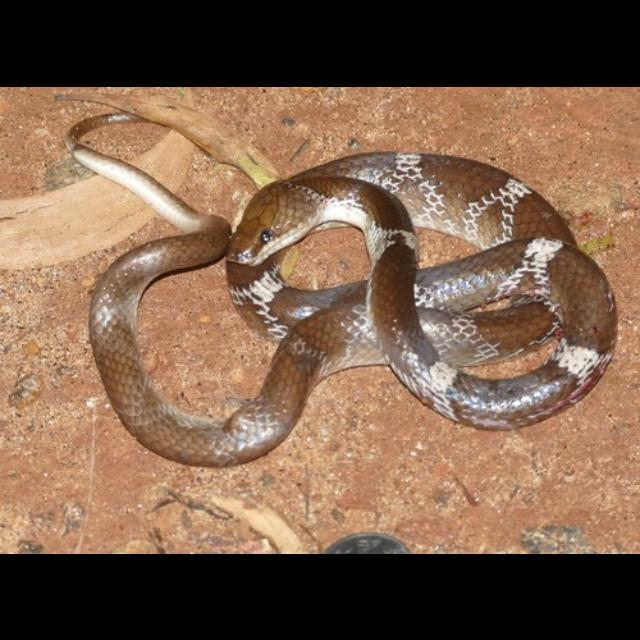snake: (52, 105, 626, 479)
